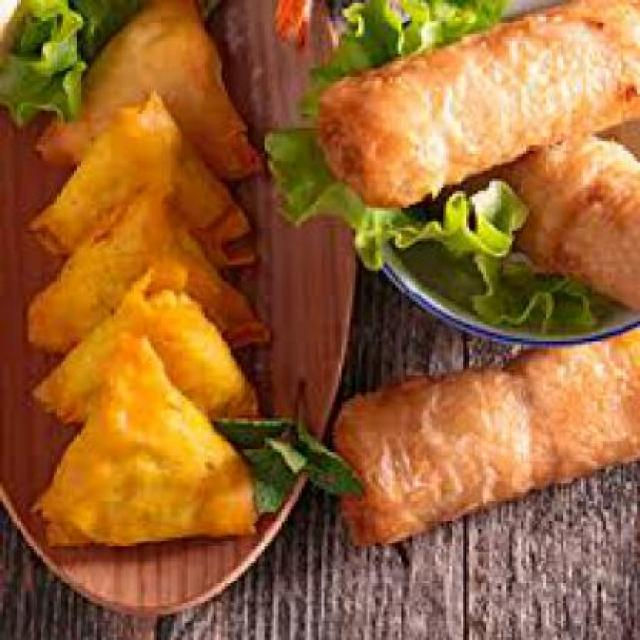spring rolls: (305, 6, 637, 549)
